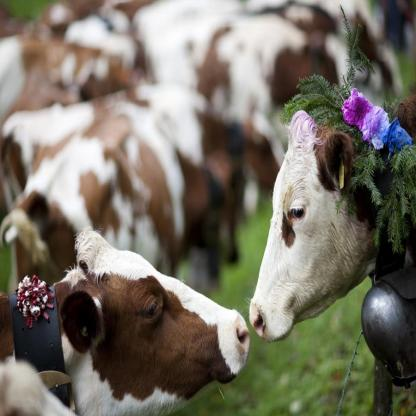cow: (0, 226, 250, 416), (249, 92, 416, 342)
